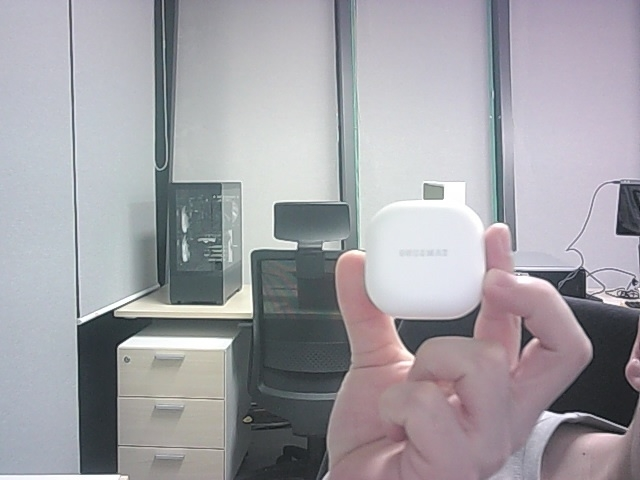case: (365, 200, 485, 319)
